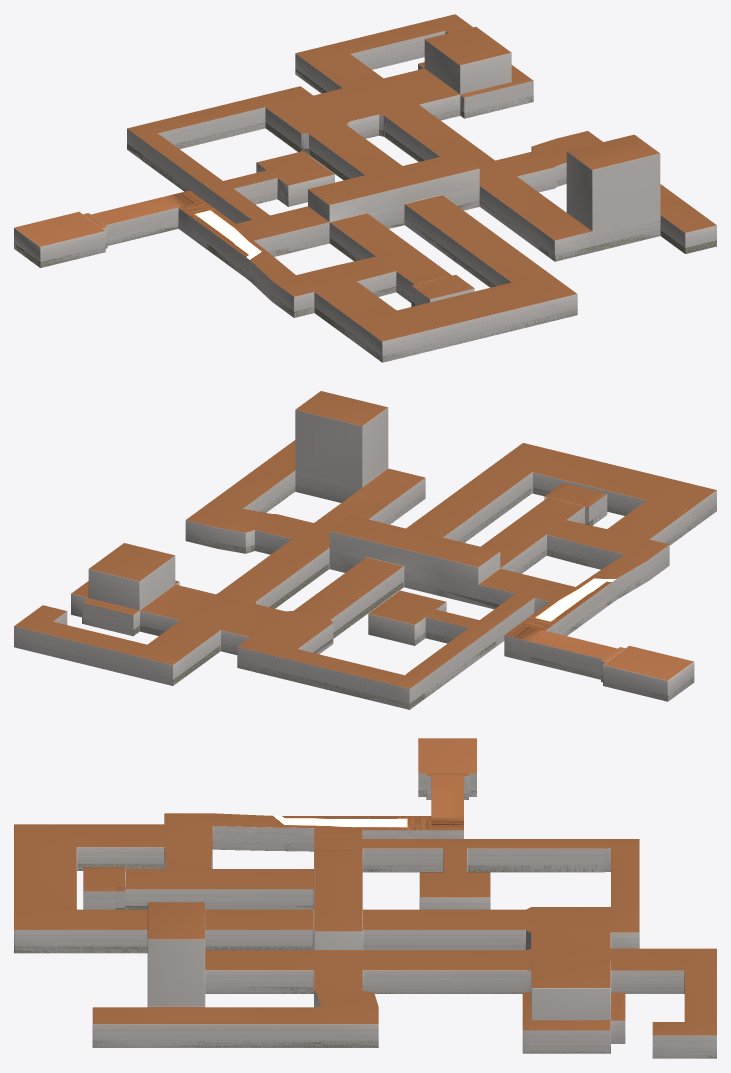
Rendered from MapLayout.fbx.
The picture shows the model from 3 angles, top to bottom: view 1: azimuth 30°, elevation 25°; view 2: azimuth 150°, elevation 25°; view 3: azimuth 270°, elevation 25°; orthographic projection. The views are drawn at different scales.
Parts seen in each view (by area): view 1: Cube, Cube.001; view 2: Cube, Cube.001; view 3: Cube, Cube.001.
Part boxes in pixels (<box>): Cube: <box>14,14,716,362</box>; Cube.001: <box>14,53,716,362</box>; Cube: <box>14,391,716,709</box>; Cube.001: <box>78,486,716,709</box>; Cube: <box>14,738,716,1058</box>; Cube.001: <box>14,790,716,1058</box>.
Bounding box in the file's own units: 13970 × 2012 × 13963.
Materials: 4 (4 with a texture image).
